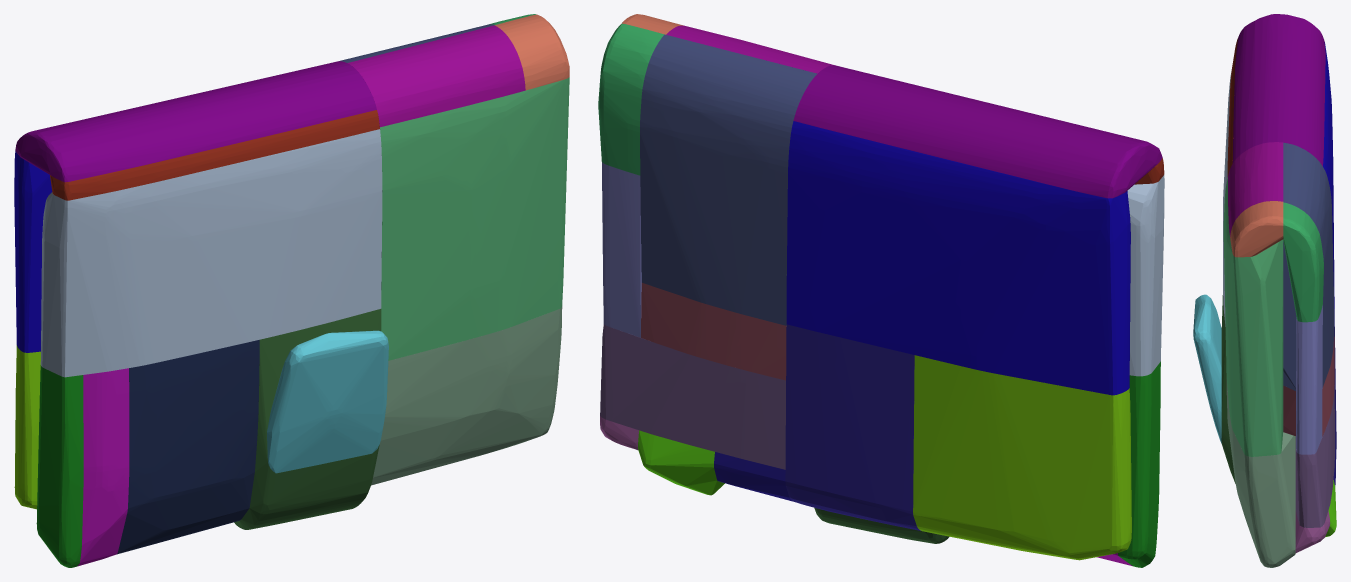
The model's file is coacd_collision.obj.
3 renders of one model, left to right at view 1: azimuth 30°, elevation 25°; view 2: azimuth 150°, elevation 25°; view 3: azimuth 270°, elevation 25°, orthographic. The views are drawn at different scales.
Parts seen in each view (by area): view 1: geometry_6, geometry_3, geometry_21, geometry_0, geometry_11, geometry_2, geometry_14, geometry_19, geometry_22, geometry_8, geometry_15, geometry_5 (+2 smaller); view 2: geometry_5, geometry_16, geometry_4, geometry_18, geometry_11, geometry_1, geometry_13, geometry_6, geometry_12, geometry_10, geometry_8, geometry_17 (+4 smaller); view 3: geometry_3, geometry_11, geometry_0, geometry_16, geometry_10, geometry_12, geometry_14, geometry_1, geometry_2, geometry_9, geometry_13, geometry_5 (+6 smaller).
Boxes of the visible parts, box(x1,y1,x2,y2) form: geometry_6: box(40, 129, 382, 377); geometry_3: box(380, 77, 569, 360); geometry_21: box(116, 340, 259, 554); geometry_0: box(371, 306, 562, 485); geometry_11: box(15, 61, 376, 182); geometry_2: box(267, 330, 388, 473); geometry_14: box(347, 25, 525, 127); geometry_19: box(234, 309, 381, 529); geometry_22: box(77, 368, 129, 566); geometry_8: box(36, 365, 83, 567); geometry_15: box(50, 110, 379, 200); geometry_5: box(14, 151, 52, 352); geometry_5: box(786, 121, 1130, 395); geometry_16: box(640, 34, 817, 325); geometry_4: box(913, 355, 1131, 560); geometry_18: box(785, 324, 920, 530); geometry_11: box(793, 65, 1162, 198); geometry_1: box(600, 324, 785, 469); geometry_13: box(641, 283, 786, 380); geometry_6: box(1127, 175, 1164, 376); geometry_12: box(602, 162, 641, 337); geometry_10: box(598, 23, 664, 175); geometry_8: box(1118, 361, 1160, 567); geometry_17: box(638, 430, 724, 495); geometry_3: box(1223, 177, 1283, 456); geometry_11: box(1232, 14, 1325, 166); geometry_0: box(1226, 379, 1295, 567); geometry_16: box(1283, 142, 1334, 390); geometry_10: box(1283, 202, 1323, 322); geometry_12: box(1296, 305, 1322, 454); geometry_14: box(1228, 142, 1283, 236); geometry_1: box(1295, 386, 1334, 527); geometry_2: box(1193, 294, 1221, 443); geometry_9: box(1230, 201, 1283, 257); geometry_13: box(1283, 337, 1334, 436); geometry_5: box(1323, 42, 1334, 326).
Size of the model in its own units: 131 by 107 by 37.44.
